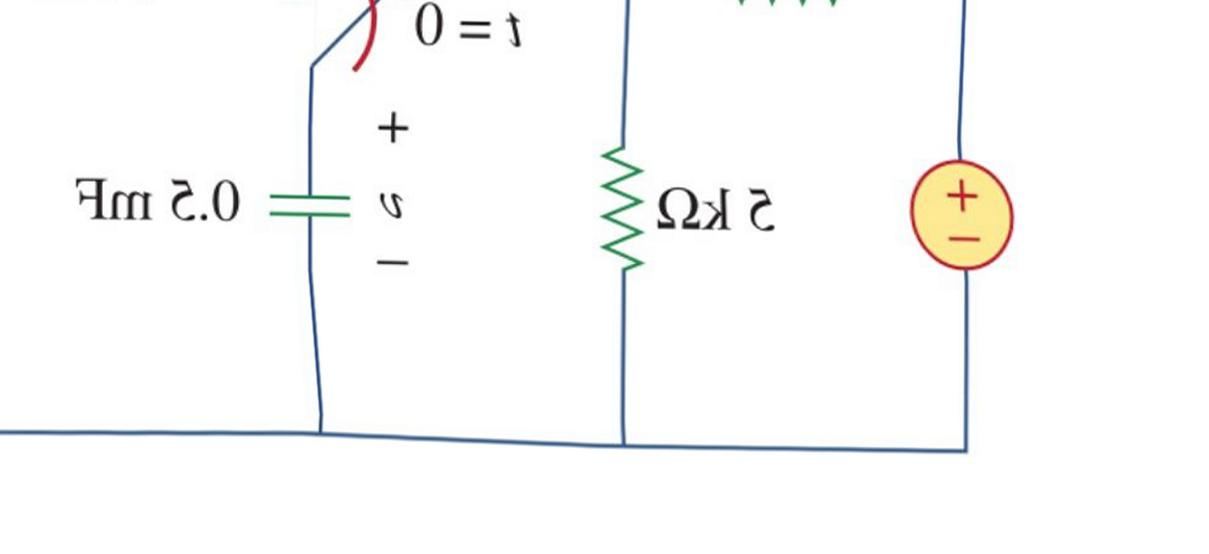Battery: (886, 134, 1037, 299)
